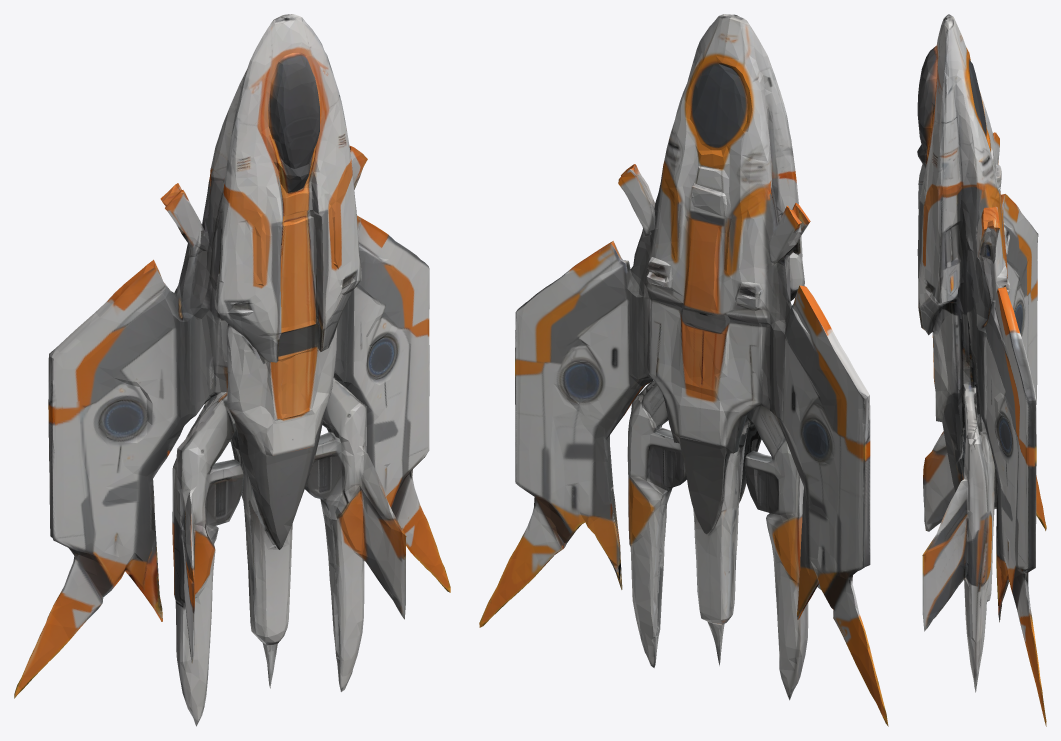
Rendered from Starship_Vanguard_0606163455_texture.obj.
3 views of the same model, side by side, from view 1: azimuth 30°, elevation 25°; view 2: azimuth 150°, elevation 25°; view 3: azimuth 270°, elevation 25° (orthographic). The views are drawn at different scales.
Parts seen in each view (by area): view 1: Starship_Vanguard_0606163455_texture; view 2: Starship_Vanguard_0606163455_texture; view 3: Starship_Vanguard_0606163455_texture.
Boxes of the visible parts, box(x1,y1,x2,y2) form: Starship_Vanguard_0606163455_texture: box(14, 14, 450, 726); Starship_Vanguard_0606163455_texture: box(479, 14, 888, 726); Starship_Vanguard_0606163455_texture: box(917, 14, 1046, 726).
Size of the model in its own units: 1.3 by 2.01 by 0.3666.
1 material, 1 textured.
